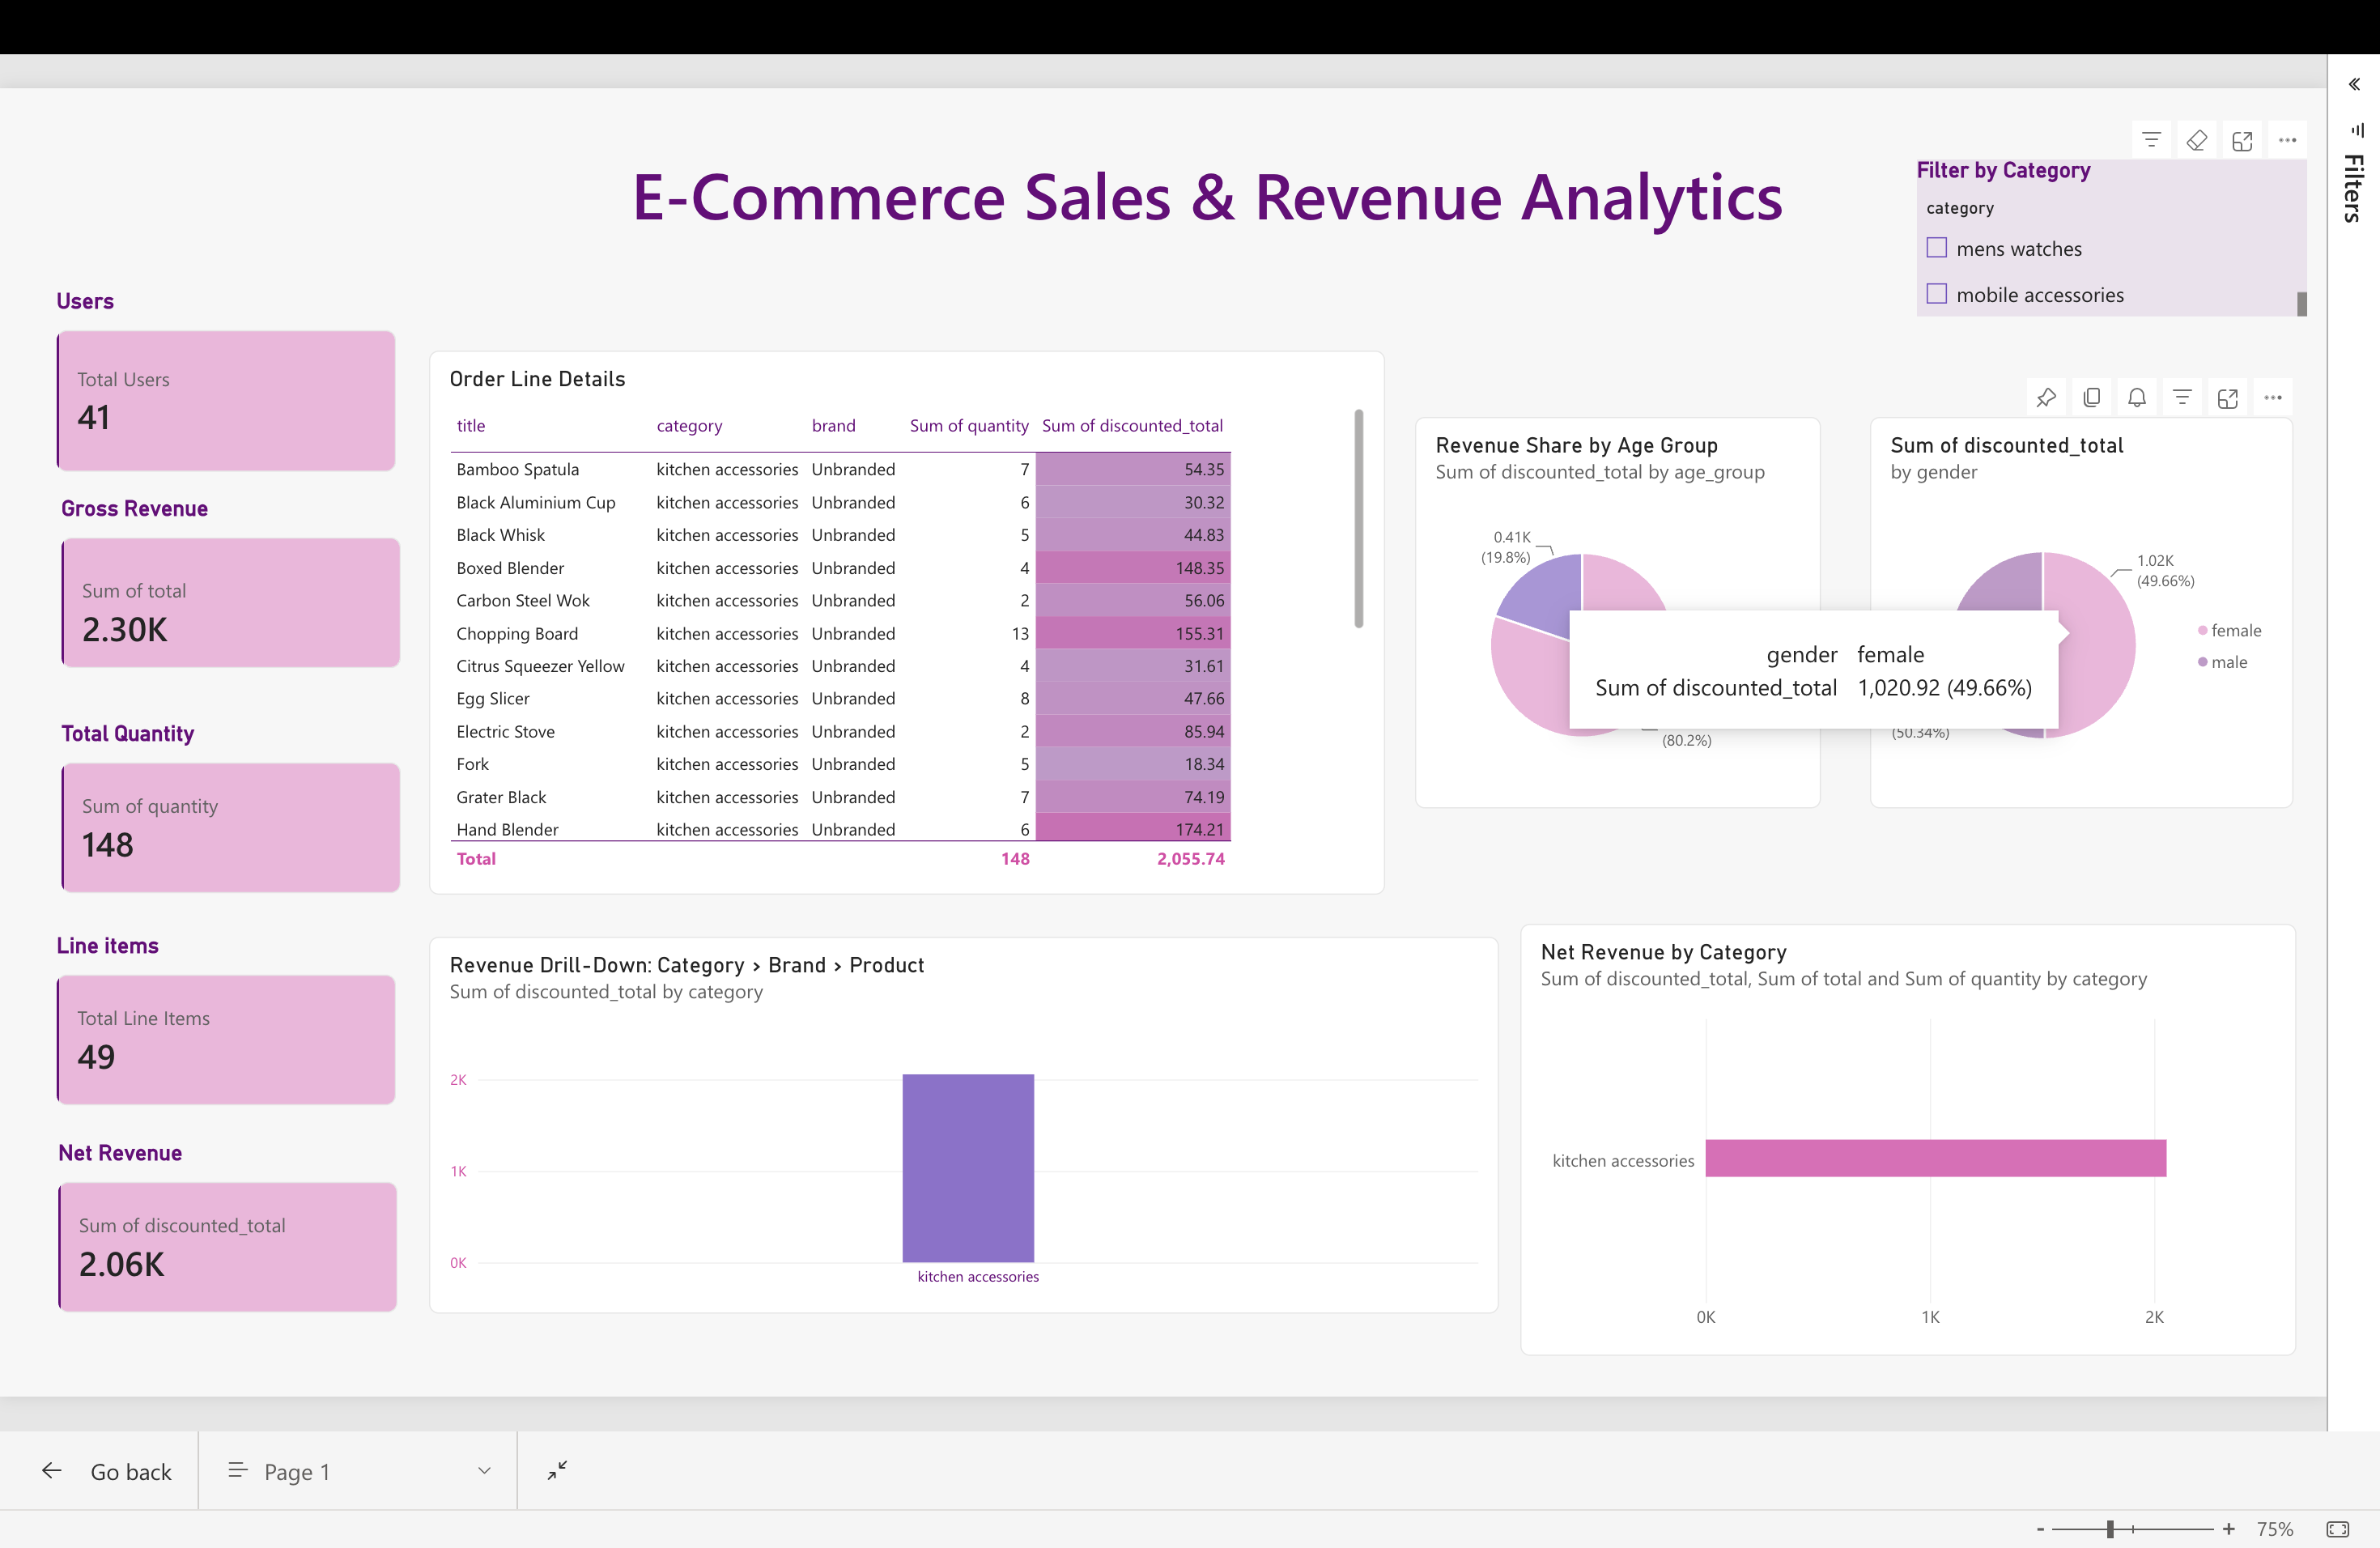

The page's visual inventory and layout, read from the dashboard file:
{"tool":"powerbi","page":{"name":"Page 1","canvas":[1920,1080],"ordinal":0},"visuals":[{"type":"cardVisual","title":"Net Revenue","fields":{"Data":["Sum(powerbi_dashboard_data.discounted_total)"]},"box":[47.7,869.4,280.3,141.1],"z":0},{"type":"cardVisual","title":"Gross Revenue","fields":{"Data":["Sum(powerbi_dashboard_data.total)"]},"box":[50.4,337.5,280.3,141.1],"z":1000},{"type":"cardVisual","title":"Total Quantity","fields":{"Data":["Sum(powerbi_dashboard_data.quantity)"]},"box":[50.4,523.6,280.3,141.1],"z":2000},{"type":"cardVisual","title":"Line items","fields":{"Data":["powerbi_dashboard_data.Total Line Items"]},"box":[46.5,698.2,280.3,141.1],"z":3000},{"type":"slicer","title":"Filter by Category","fields":{"Values":["powerbi_dashboard_data.category"]},"box":[1582.5,58.5,322.2,129.7],"z":4000},{"type":"clusteredBarChart","title":"Net Revenue by Category","fields":{"Category":["powerbi_dashboard_data.category"],"Y":["Sum(powerbi_dashboard_data.discounted_total)"]},"box":[1254.9,689.4,640.6,356.5],"z":5000},{"type":"clusteredColumnChart","title":"Revenue Drill-Down: Category > Brand > Product","fields":{"Category":["powerbi_dashboard_data.category","powerbi_dashboard_data.brand","powerbi_dashboard_data.title"],"Y":["Sum(powerbi_dashboard_data.discounted_total)"]},"box":[354.6,699.7,882.8,310.8],"z":6000},{"type":"pieChart","title":"Revenue Share by Age Group","fields":{"Category":["powerbi_dashboard_data.age_group"],"Y":["Sum(powerbi_dashboard_data.discounted_total)"]},"box":[1167.5,271.9,335,322.8],"z":7000},{"type":"tableEx","title":"Order Line Details","fields":{"Values":["powerbi_dashboard_data.title","powerbi_dashboard_data.category","powerbi_dashboard_data.brand","Sum(powerbi_dashboard_data.quantity)","Sum(powerbi_dashboard_data.discounted_total)"]},"box":[354.4,216,788.9,449.1],"z":8000},{"type":"textbox","box":[440.4,51.2,1105.6,144.4],"z":9000},{"type":"cardVisual","title":"Users","fields":{"Data":["powerbi_dashboard_data.Total Users"]},"box":[46.1,167.5,280,150],"z":10000},{"type":"pieChart","fields":{"Category":["powerbi_dashboard_data.gender"],"Y":["Sum(powerbi_dashboard_data.discounted_total)"]},"box":[1543.8,271.9,349.5,322.8],"z":11000}]}

Visuals, with their boxes on the page's 1920x1080 design canvas (x1, y1, x2, y2). These are canvas units, not pixel positions in the 2380x1548 screenshot, which may show the page scaled, cropped or inside an application window:
"Net Revenue" cardVisual: Rect(48, 869, 328, 1010)
"Gross Revenue" cardVisual: Rect(50, 338, 331, 479)
"Total Quantity" cardVisual: Rect(50, 524, 331, 665)
"Line items" cardVisual: Rect(46, 698, 327, 839)
"Filter by Category" slicer: Rect(1582, 58, 1905, 188)
"Net Revenue by Category" clusteredBarChart: Rect(1255, 689, 1896, 1046)
"Revenue Drill-Down: Category > Brand > Product" clusteredColumnChart: Rect(355, 700, 1237, 1010)
"Revenue Share by Age Group" pieChart: Rect(1168, 272, 1502, 595)
"Order Line Details" tableEx: Rect(354, 216, 1143, 665)
textbox: Rect(440, 51, 1546, 196)
"Users" cardVisual: Rect(46, 168, 326, 318)
pieChart - powerbi_dashboard_data.gender x Sum(powerbi_dashboard_data.discounted_total): Rect(1544, 272, 1893, 595)
